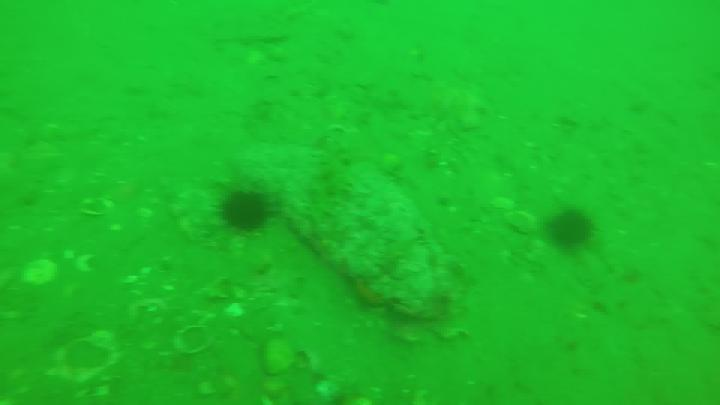echinus: (219, 194, 264, 233), (551, 212, 596, 245)
holothurian: (315, 140, 352, 203)
scallop: (171, 323, 219, 354), (22, 259, 61, 285), (79, 197, 114, 216), (225, 305, 244, 317)
